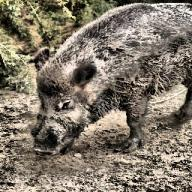boar: (28, 1, 192, 157)
